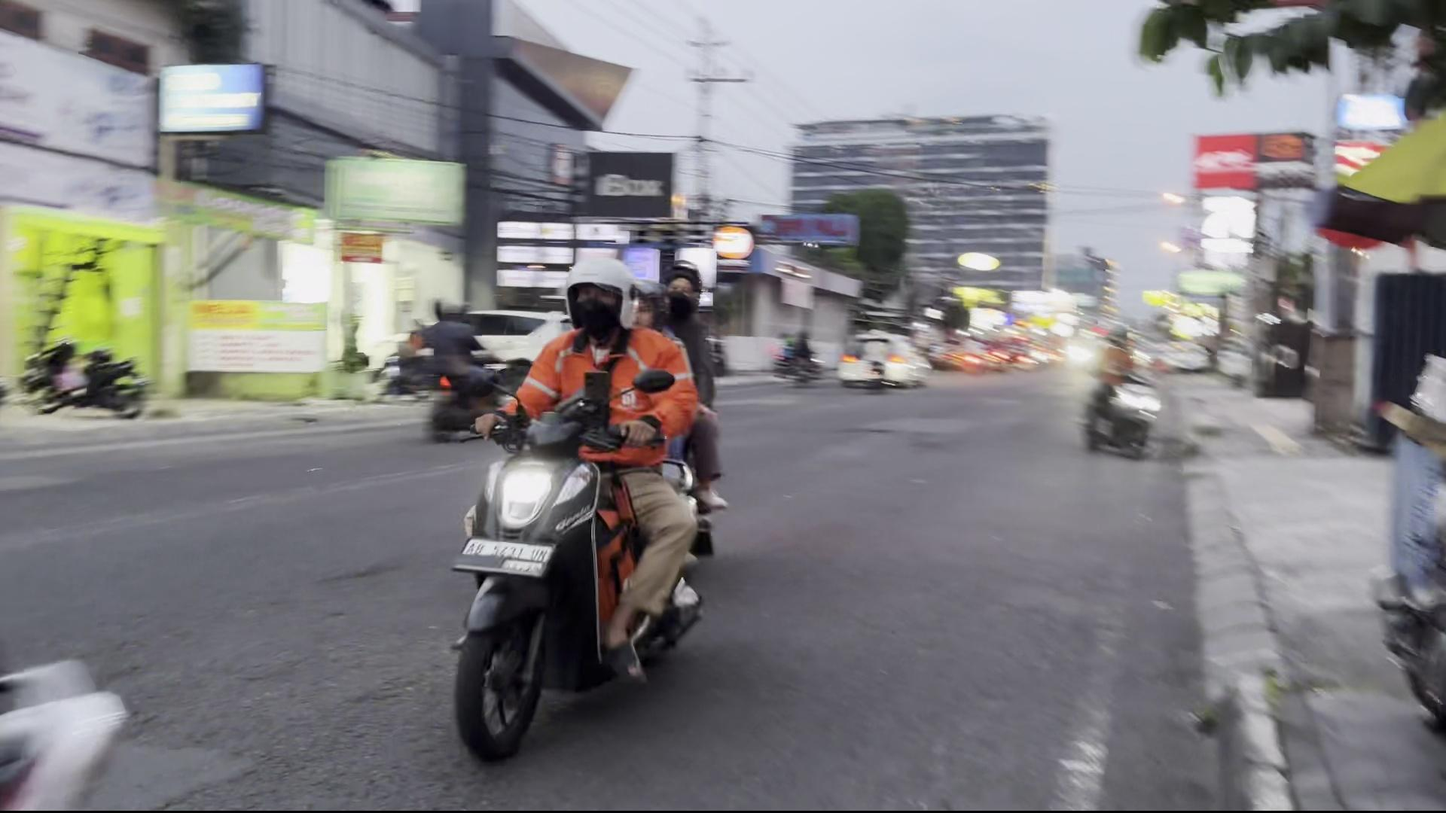helm: (561, 249, 646, 341)
riding: (444, 251, 717, 778)
